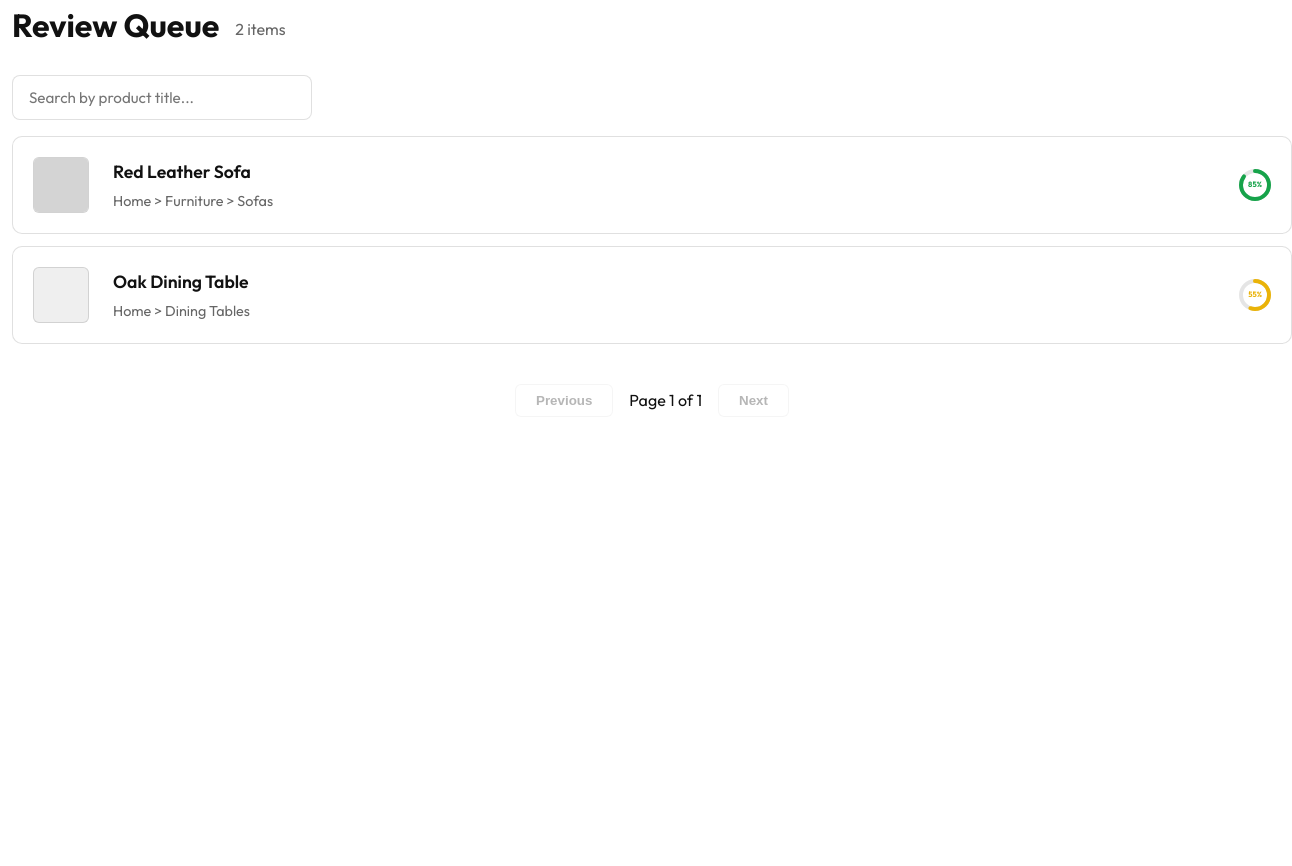
Test: ReviewPage expand and resolve › collapses the row when clicked again
Click the text "Red Leather Sofa" at (182, 171), box [113,160,251,183]
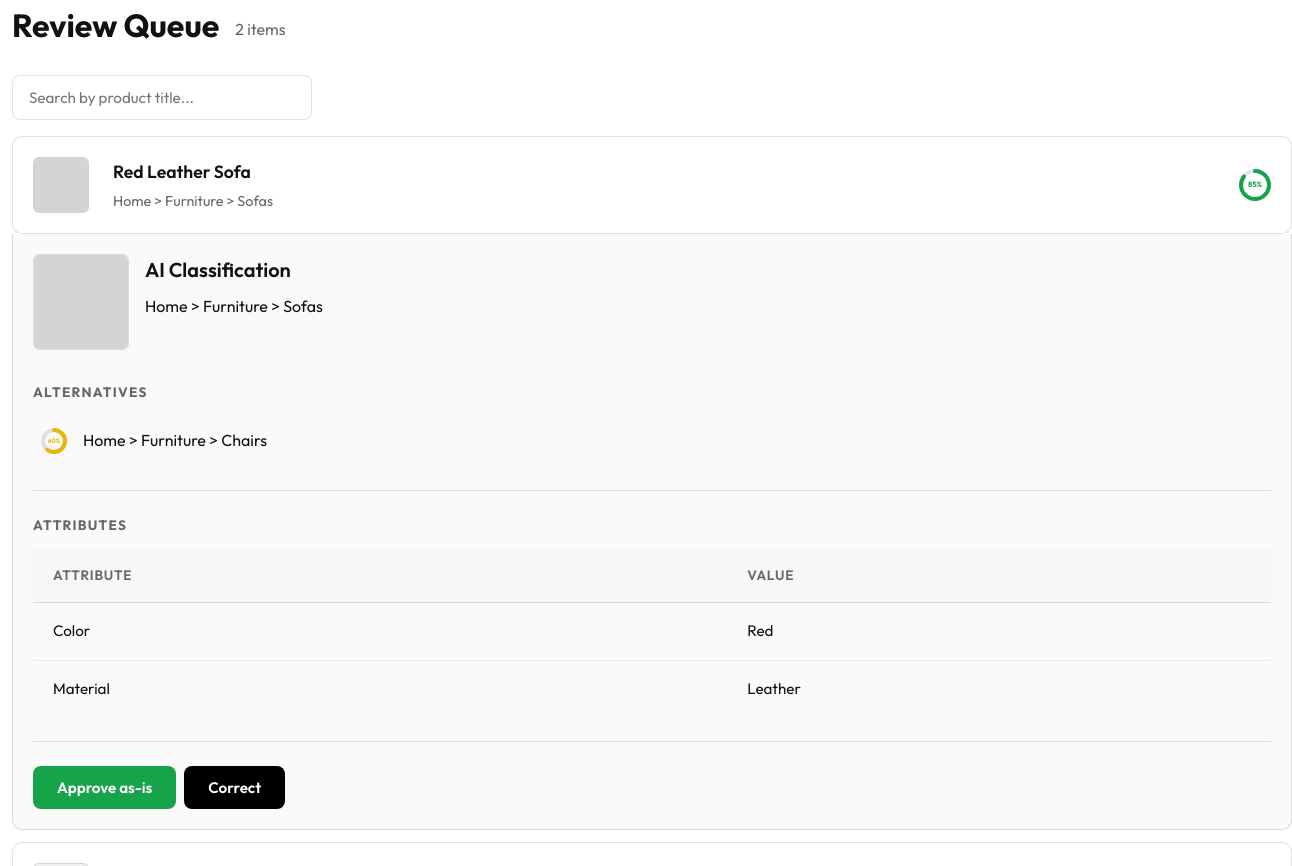
Result: the button "Approve as-is" is shown at [33,766,176,809]
Click the text "Red Leather Sofa" at (182, 171), box [113,160,251,183]
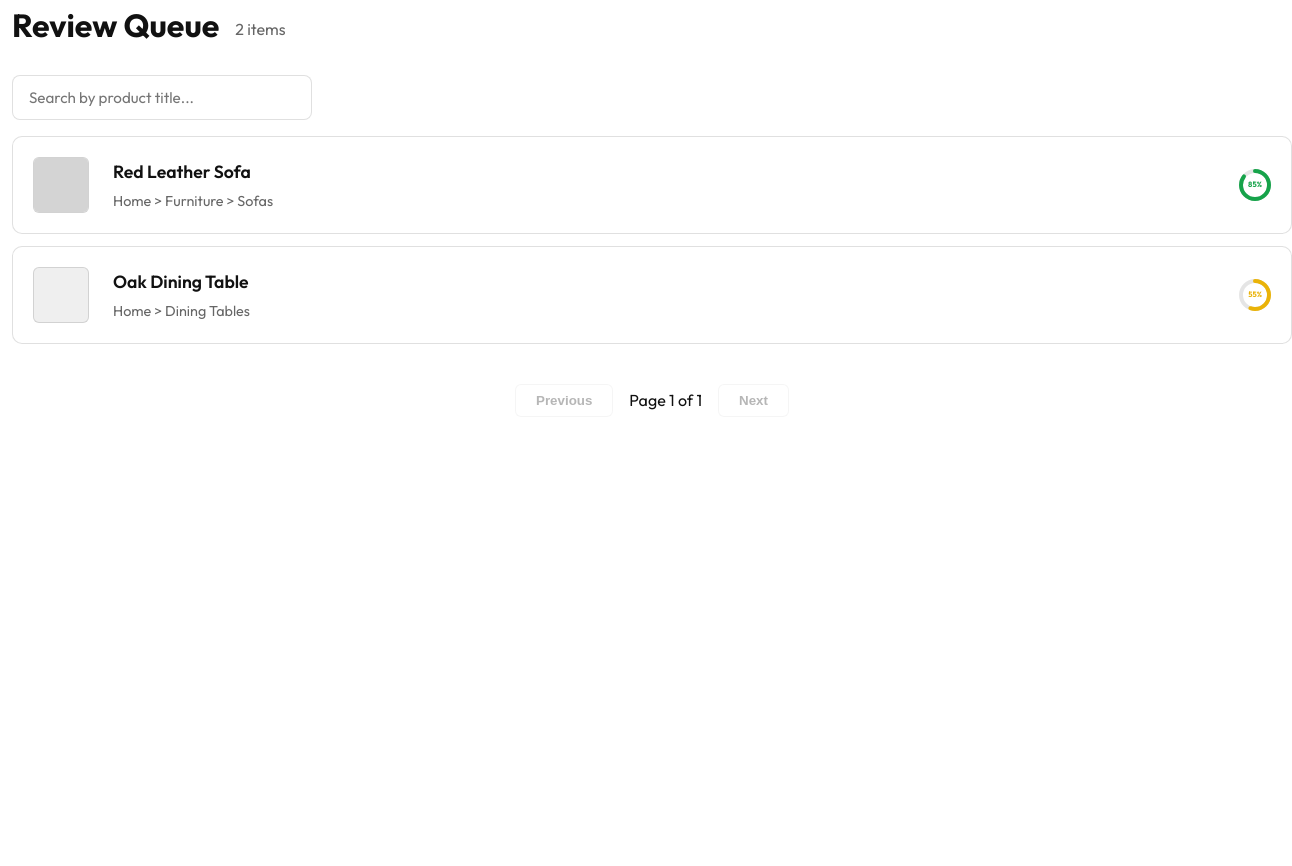
Result: the button "Approve as-is" is gone
